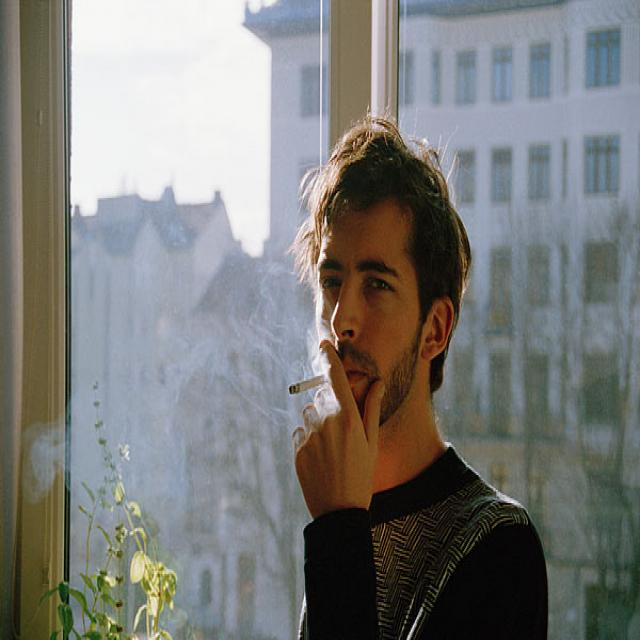smoking: (287, 371, 342, 395)
